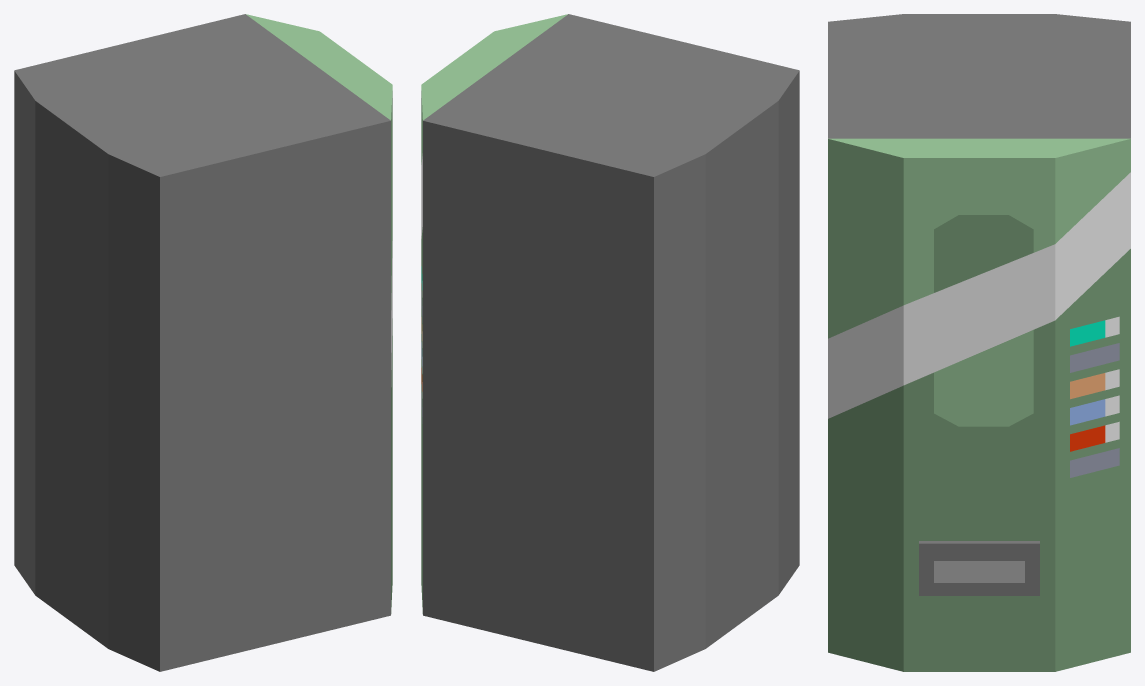
File: VendingMachine.fbx
3 renders of one model, left to right at view 1: azimuth 30°, elevation 25°; view 2: azimuth 150°, elevation 25°; view 3: azimuth 270°, elevation 25°, orthographic. The views are drawn at different scales.
Visible parts, largest first — view 1: VendingMachine; view 2: VendingMachine; view 3: VendingMachine.
Part boxes in pixels (x1,y1,x2,y2): VendingMachine: [14, 14, 392, 671]; VendingMachine: [421, 14, 799, 671]; VendingMachine: [828, 14, 1130, 671].
Size of the model in its own units: 1.08 by 1.76 by 0.94.
